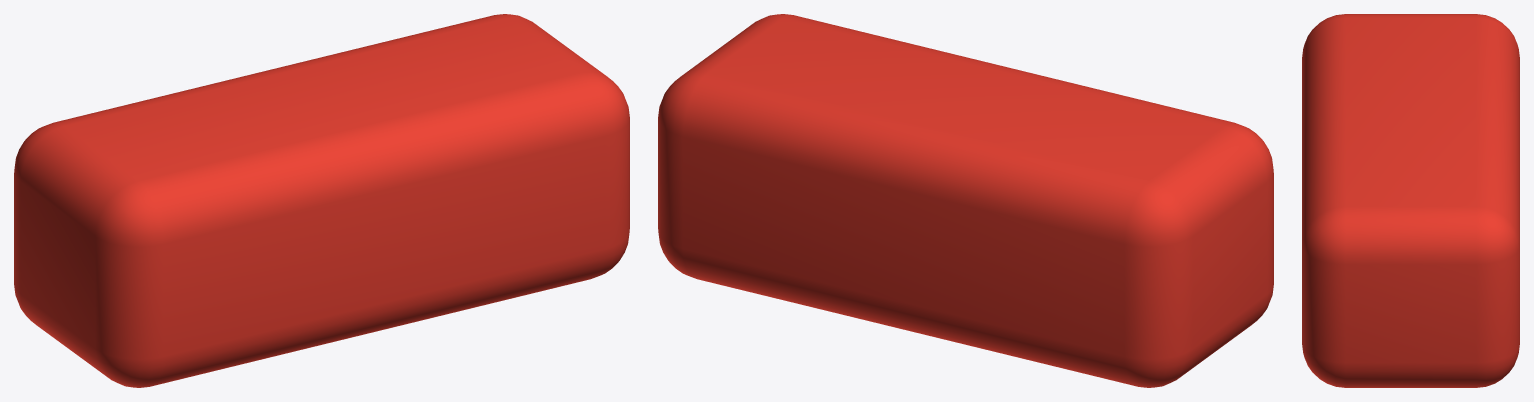
File: Brick.fbx
The picture shows the model from 3 angles, left to right: view 1: azimuth 30°, elevation 25°; view 2: azimuth 150°, elevation 25°; view 3: azimuth 270°, elevation 25°; orthographic projection. The views are drawn at different scales.
Visible parts, largest first — view 1: Cube; view 2: Cube; view 3: Cube.
Part boxes in pixels (x1,y1,x2,y2): Cube: (14,14,629,387); Cube: (658,14,1273,387); Cube: (1302,14,1519,387).
Bounding box in the file's own units: 200 × 73.37 × 81.68.
